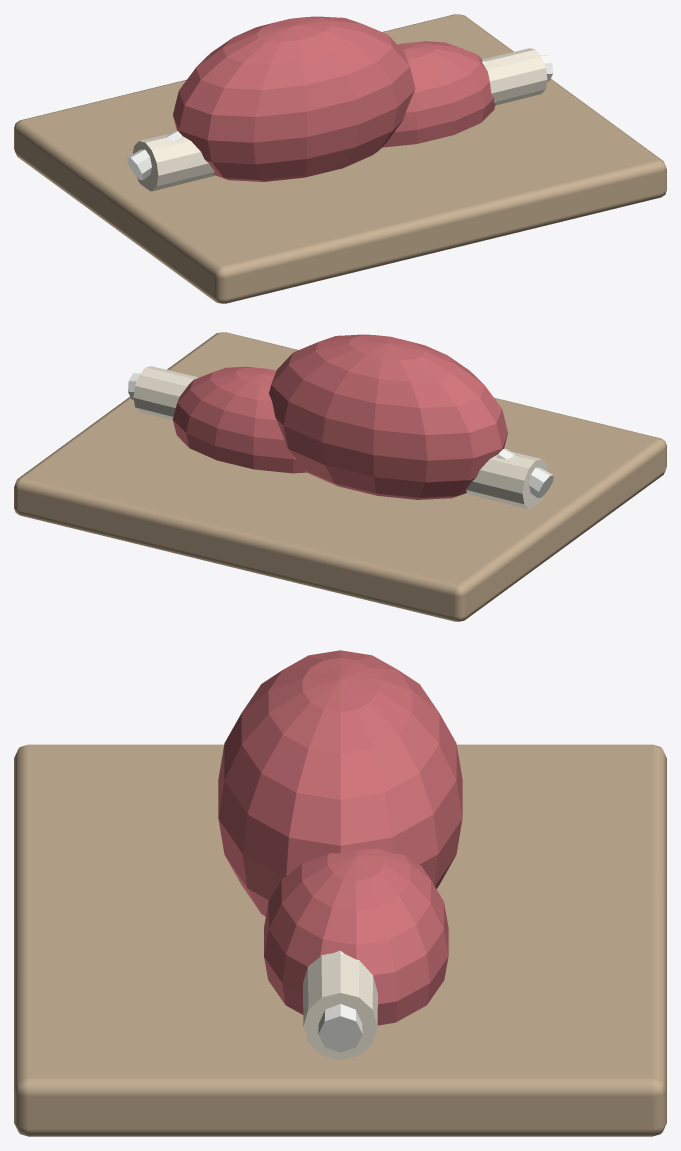
The model's file is human-anatomy-and-education-kit-arm-muscle-model-95462c7e__38961.glb.
3 renders of one model, top to bottom at view 1: azimuth 30°, elevation 25°; view 2: azimuth 150°, elevation 25°; view 3: azimuth 270°, elevation 25°, orthographic. The views are drawn at different scales.
Parts seen in each view (by area): view 1: arm-muscle-model; view 2: arm-muscle-model; view 3: arm-muscle-model.
Boxes of the visible parts, bbox=[...] form: arm-muscle-model: bbox=[14, 14, 666, 303]; arm-muscle-model: bbox=[14, 332, 666, 621]; arm-muscle-model: bbox=[14, 650, 666, 1136].
Bounding box in the file's own units: 0.44 × 0.1537 × 0.352.
